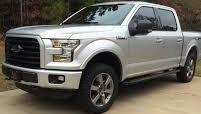Trucks: (6, 3, 201, 114)
